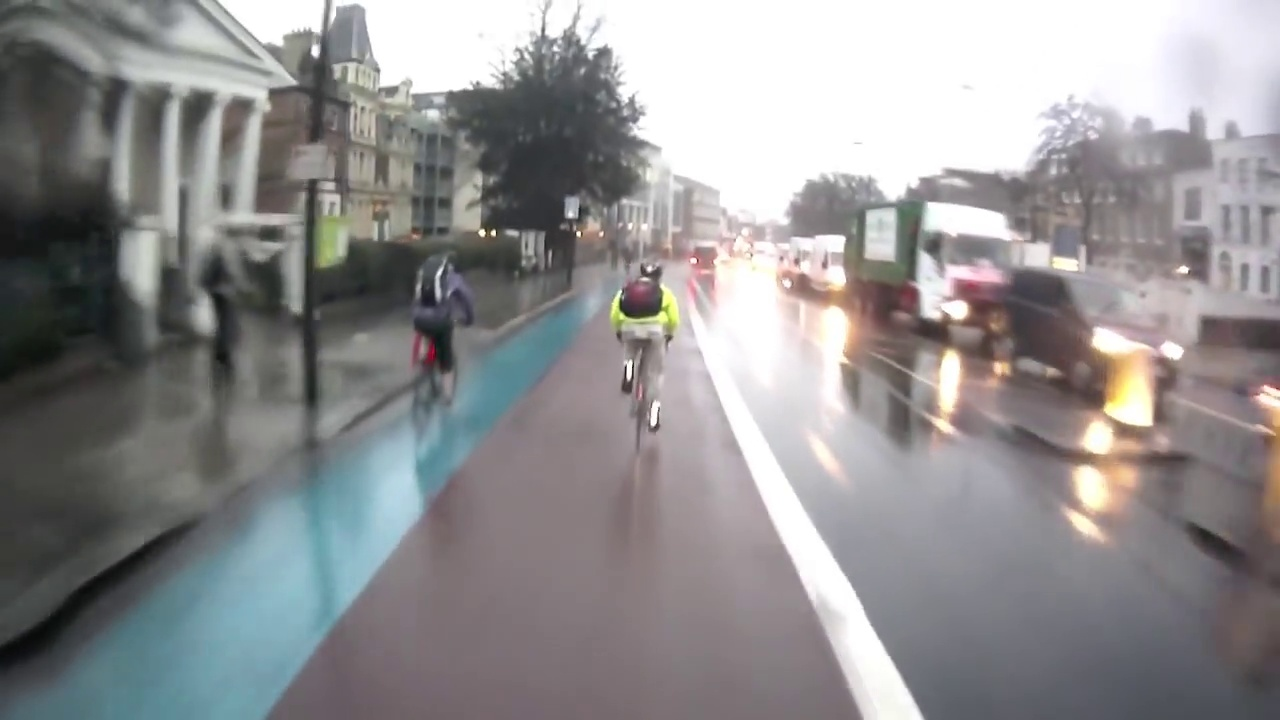cyclist_back: (614, 251, 673, 453), (408, 246, 467, 413)
